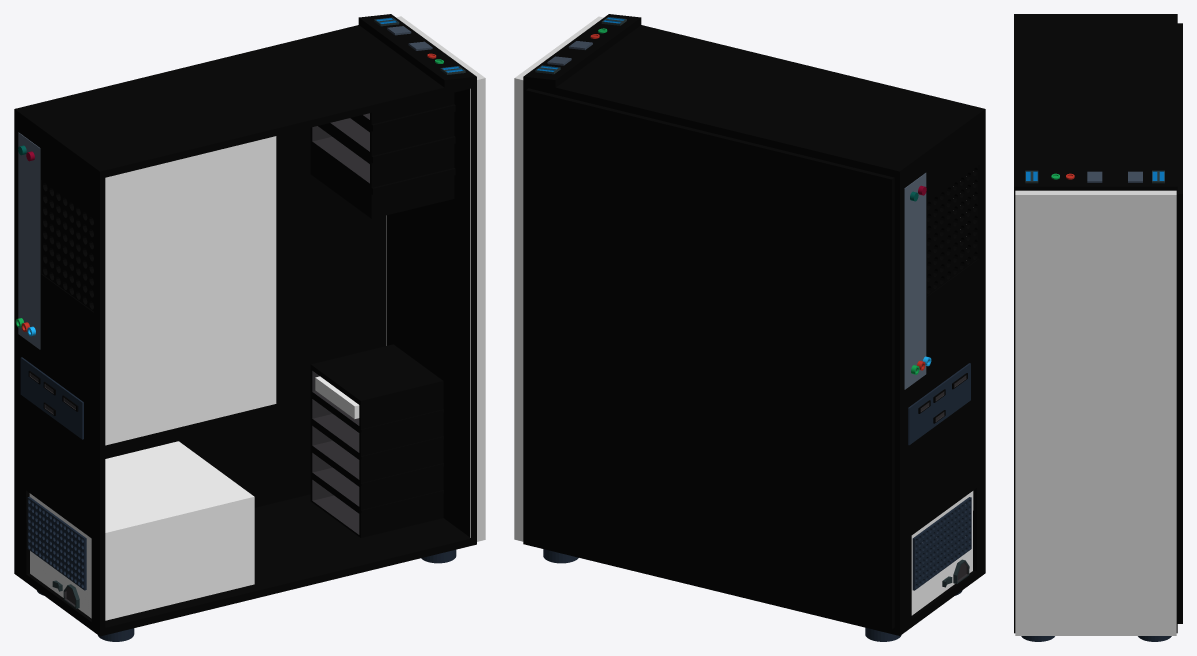
The model's file is pc_case.glb.
3 views of the same model, side by side, from view 1: azimuth 30°, elevation 25°; view 2: azimuth 150°, elevation 25°; view 3: azimuth 270°, elevation 25° (orthographic). The views are drawn at different scales.
Visible parts, largest first — view 1: Cube.145, MB_P, PSU_P, Cube.126, Cube.125, Cube.147, Plane.005, Cube.146, Cube.142, Plane.009, Plane.008, HDD_P.; view 2: Cube.145, Cube.147, Plane.005, Cube.146, Cube.142, Plane.008, PSU_P, Plane.009; view 3: Cube.147, Cube.145.
Boxes of the visible parts, x1,y1,x2,y2 form: Cube.145: [14, 14, 476, 636]; MB_P: [105, 136, 276, 445]; PSU_P: [29, 441, 254, 620]; Cube.126: [310, 344, 443, 537]; Cube.125: [310, 92, 455, 218]; Cube.147: [386, 16, 485, 541]; Plane.005: [42, 181, 93, 311]; Cube.146: [18, 132, 40, 349]; Cube.142: [20, 357, 83, 439]; Plane.009: [56, 517, 86, 590]; Plane.008: [27, 496, 57, 569]; HDD_P.: [315, 376, 359, 418]; Cube.145: [523, 14, 985, 635]; Cube.147: [514, 16, 603, 541]; Plane.005: [926, 165, 978, 296]; Cube.146: [904, 173, 926, 389]; Cube.142: [908, 363, 970, 445]; Plane.008: [912, 517, 943, 590]; PSU_P: [911, 491, 973, 615]; Plane.009: [941, 497, 971, 569]; Cube.147: [1015, 190, 1176, 635]; Cube.145: [1014, 14, 1182, 633].
Size of the model in its own units: 0.383 by 0.4534 by 0.1491.
Materials: 6 (1 with a texture image).
